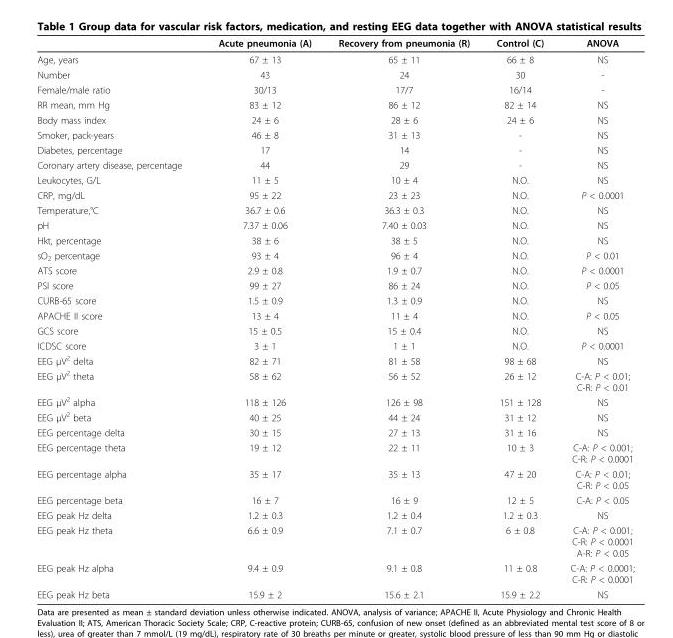table: (36, 36, 634, 599)
table column: (36, 36, 199, 599), (324, 36, 482, 599), (199, 36, 324, 599), (556, 36, 634, 599), (482, 36, 556, 599)
table column header: (36, 36, 634, 50)
table row: (36, 522, 634, 560), (36, 439, 634, 466), (36, 367, 634, 393), (36, 466, 634, 492), (36, 560, 634, 586), (36, 50, 634, 66), (36, 96, 634, 112), (36, 247, 634, 263), (36, 408, 634, 424), (36, 66, 634, 81), (36, 81, 634, 96), (36, 112, 634, 127), (36, 127, 634, 142), (36, 142, 634, 157), (36, 157, 634, 172), (36, 172, 634, 187), (36, 187, 634, 202), (36, 202, 634, 217), (36, 217, 634, 232), (36, 232, 634, 247), (36, 277, 634, 292), (36, 292, 634, 307), (36, 307, 634, 322), (36, 322, 634, 337), (36, 337, 634, 352), (36, 352, 634, 367), (36, 393, 634, 408), (36, 424, 634, 439), (36, 492, 634, 507), (36, 507, 634, 522), (36, 36, 634, 50), (36, 263, 634, 277), (36, 586, 634, 599)
